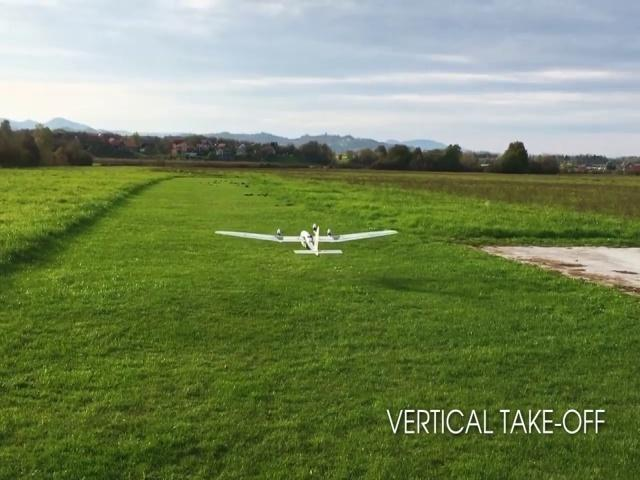Airplane: (212, 217, 406, 260)
